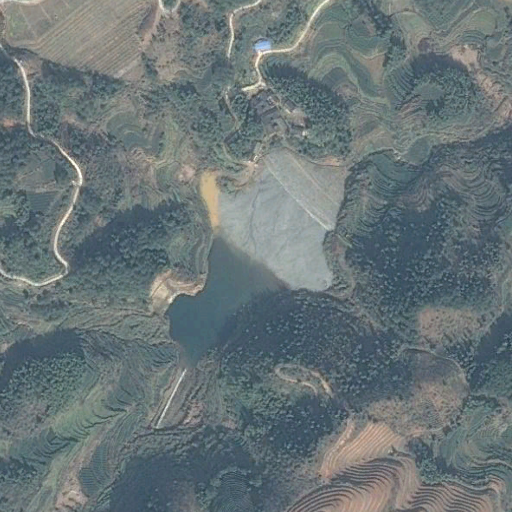tp: (159, 146, 347, 360)
